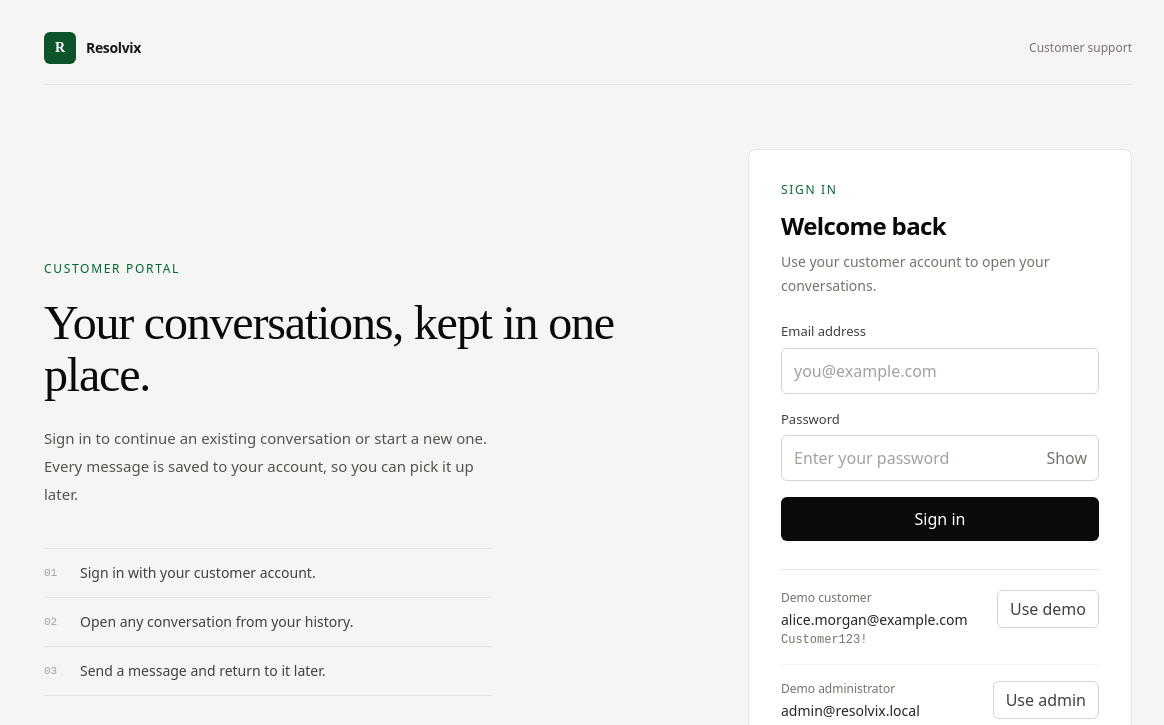
Test: Login › fills the customer demo account and opens the chat
Click the button "Use demo" at (1048, 609), box x1=997 y1=590 x2=1099 y2=628
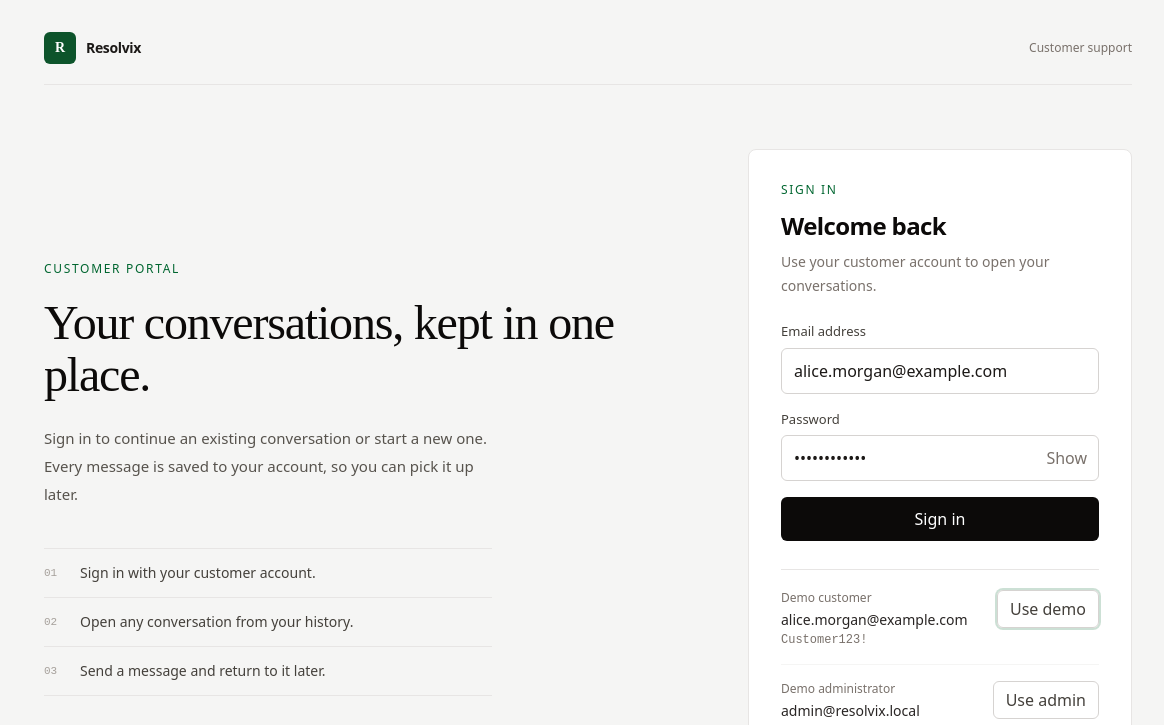
Click the button "Sign in" at (940, 519), box x1=781 y1=497 x2=1099 y2=541
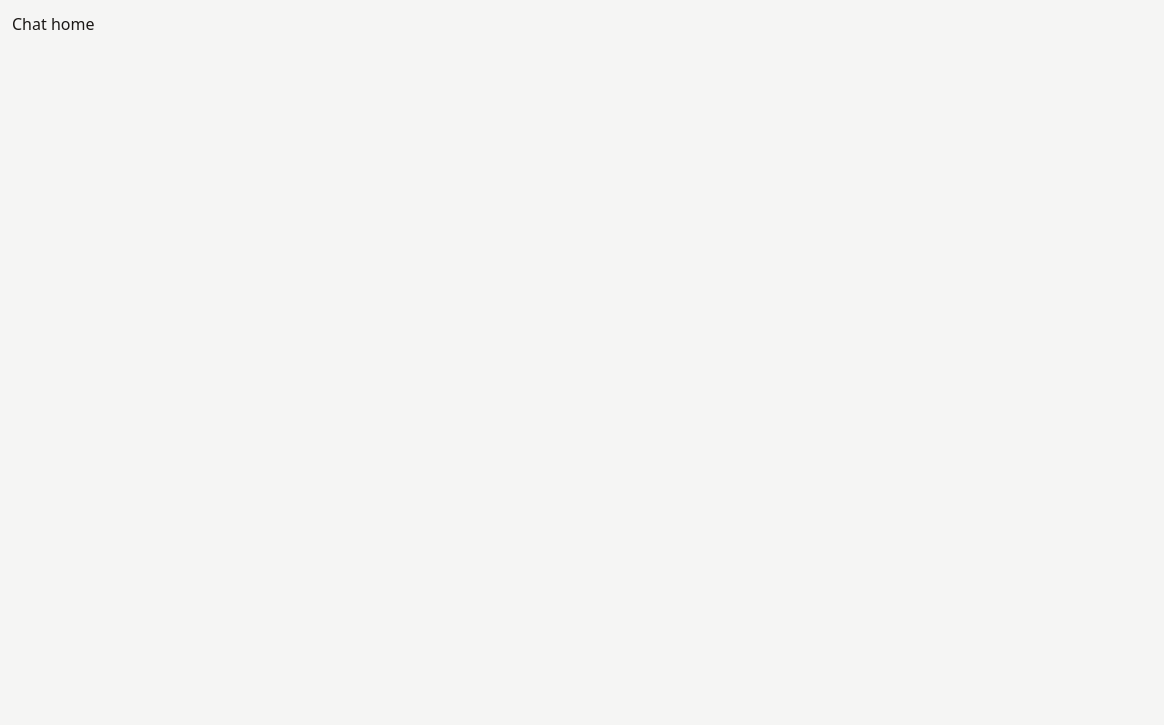
Expected: the text "Chat home" is shown, x1=12 y1=13 x2=94 y2=35
